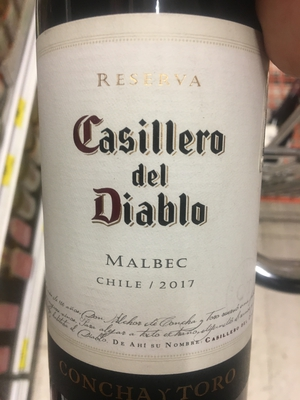casillero del diablo malbec: (33, 2, 271, 400)
